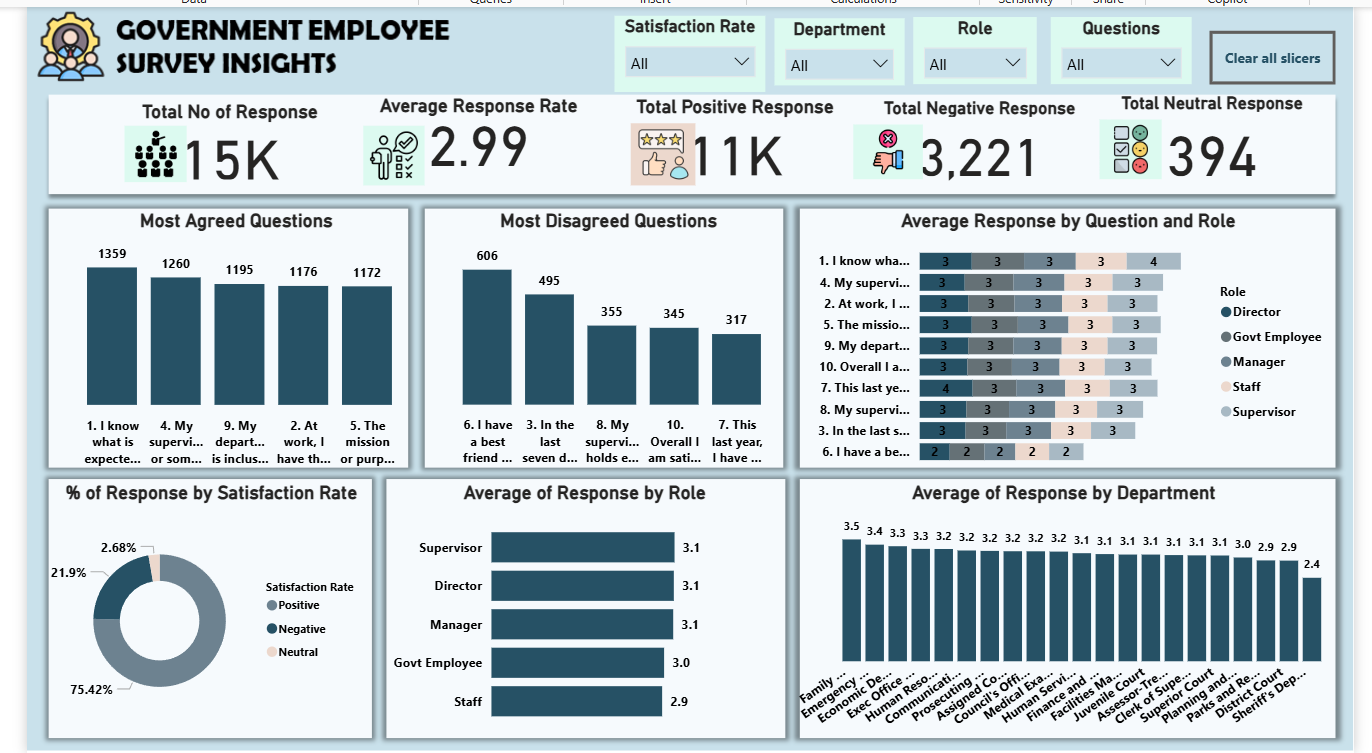

This screenshot's page, from the dashboard's own definition file:
{"tool":"powerbi","page":{"name":"DASHBAORD","canvas":[1280,720],"ordinal":2},"visuals":[{"type":"group","id":"g1","title":"Group 6","box":[566.8,9,557.6,73.6],"z":0,"group":"g9"},{"type":"group","id":"g2","title":"Group 1","box":[94,91.1,203.9,80.8],"z":0,"group":"g5"},{"type":"clusteredColumnChart","title":"Most Agreed Questions","fields":{"Category":["HR Survey Reponses.Question"],"Y":["CountNonNull(HR Survey Reponses.Satisfaction Rate)"]},"box":[20.5,195.4,363.1,255.8],"z":0,"group":"g4"},{"type":"group","id":"g3","title":"Group 2","box":[322.1,84.4,228,88.1],"z":1000,"group":"g5"},{"type":"group","id":"g4","title":"Group 7","box":[20.5,195.4,1243.4,510.1],"z":1000,"group":"g9"},{"type":"columnChart","title":"Most Disagreed Questions","fields":{"Category":["HR Survey Reponses.Question"],"Y":["CountNonNull(HR Survey Reponses.Satisfaction Rate)"]},"box":[383.3,195.8,355.6,255.6],"z":1000,"group":"g4"},{"type":"group","id":"g5","title":"Group 8","box":[94,82.5,1146.2,92.1],"z":2000,"group":"g9"},{"type":"group","id":"g6","title":"Group 3","box":[577.9,85.6,211.1,86.9],"z":2000,"group":"g5"},{"type":"barChart","title":"Average  Response by Question and Role","fields":{"Series":["HR Survey Reponses.Role"],"Category":["HR Survey Reponses.Question"],"Y":["HR Survey Reponses.Average of Response"]},"box":[747.2,195.8,516.7,255.6],"z":2000,"group":"g4"},{"type":"group","id":"g7","title":"Group 4","box":[797.5,87,227,85.5],"z":3000,"group":"g5"},{"type":"donutChart","title":"% of Response  by Satisfaction Rate","fields":{"Category":["HR Survey Reponses.Satisfaction Rate"],"Y":["CountNonNull(HR Survey Reponses.Response Text)"]},"box":[20.8,458.3,315.3,247.2],"z":3000,"group":"g4"},{"type":"group","id":"g8","title":"Group 5","box":[1035.1,82.5,205.1,92.1],"z":4000,"group":"g5"},{"type":"clusteredBarChart","fields":{"Y":["HR Survey Reponses.Average of Response"],"Category":["HR Survey Reponses.Role"]},"box":[347.2,458.3,381.9,247.2],"z":4000,"group":"g4"},{"type":"columnChart","fields":{"Category":["HR Survey Reponses.Department"],"Y":["HR Survey Reponses.Average of Response"]},"box":[738.9,458.3,525,247.2],"z":5000,"group":"g4"},{"type":"card","title":"Total Positive Response","fields":{"Values":["HR Survey Reponses.Positive Count"]},"box":[577.9,85.6,211.1,82],"z":6000,"group":"g6"},{"type":"card","title":"Average Response Rate","fields":{"Values":["HR Survey Reponses.Average of Response"]},"box":[322.1,84.4,228,88.1],"z":7000,"group":"g3"},{"type":"card","title":"Total Negative Response","fields":{"Values":["HR Survey Reponses.Negative Count"]},"box":[814,87,210.5,85.5],"z":8000,"group":"g7"},{"type":"card","title":"Total Neutral Response","fields":{"Values":["HR Survey Reponses.Neutral Count"]},"box":[1046.8,82.5,193.4,92.1],"z":9000,"group":"g8"},{"type":"card","title":"Total No of Response","fields":{"Values":["HR Survey Reponses.Total No of response"]},"box":[94,91.1,203.9,80.8],"z":10000,"group":"g2"},{"type":"slicer","title":"Satisfaction Rate","fields":{"Values":["HR Survey Reponses.Satisfaction Rate"]},"box":[566.8,9,146,73.6],"z":11000,"group":"g1"},{"type":"slicer","title":"Department","fields":{"Values":["HR Survey Reponses.Department"]},"box":[721.5,10.8,125.5,65.1],"z":12000,"group":"g1"},{"type":"slicer","title":"Role","fields":{"Values":["HR Survey Reponses.Role"]},"box":[855.4,9.6,119.4,65.1],"z":13000,"group":"g1"},{"type":"slicer","title":"Questions","fields":{"Values":["HR Survey Reponses.Question"]},"box":[988.1,9.6,136.3,65.1],"z":14000,"group":"g1"},{"type":"image","box":[94.1,115.5,60.1,54.7],"z":15000,"group":"g2"},{"type":"image","box":[324.5,114.6,59.1,57.9],"z":16000,"group":"g3"},{"type":"image","box":[582.7,112.1,62.7,60.3],"z":17000,"group":"g6"},{"type":"image","box":[797.5,113.4,67.6,53.1],"z":18000,"group":"g7"},{"type":"image","box":[1035.1,108.5,60.3,57.9],"z":19000,"group":"g8"},{"type":"actionButton","box":[1141.3,22.9,121.9,51.9],"z":20000},{"type":"group","id":"g9","title":"Group 9","box":[20.5,9,1243.4,696.5],"z":20009}]}

Visuals, with their boxes on the page's 1280x720 design canvas (x1, y1, x2, y2). These are canvas units, not pixel positions in the 1372x753 screenshot, which may show the page scaled, cropped or inside an application window:
"Group 6" group: 567:9:1124:83
"Group 1" group: 94:91:298:172
"Most Agreed Questions" clusteredColumnChart: 20:195:384:451
"Group 2" group: 322:84:550:172
"Group 7" group: 20:195:1264:706
"Most Disagreed Questions" columnChart: 383:196:739:451
"Group 8" group: 94:82:1240:175
"Group 3" group: 578:86:789:172
"Average  Response by Question and Role" barChart: 747:196:1264:451
"Group 4" group: 798:87:1024:172
"% of Response  by Satisfaction Rate" donutChart: 21:458:336:706
"Group 5" group: 1035:82:1240:175
clusteredBarChart - HR Survey Reponses.Average of Response x HR Survey Reponses.Role: 347:458:729:706
columnChart - HR Survey Reponses.Department x HR Survey Reponses.Average of Response: 739:458:1264:706
"Total Positive Response" card: 578:86:789:168
"Average Response Rate" card: 322:84:550:172
"Total Negative Response" card: 814:87:1024:172
"Total Neutral Response" card: 1047:82:1240:175
"Total No of Response" card: 94:91:298:172
"Satisfaction Rate" slicer: 567:9:713:83
"Department" slicer: 722:11:847:76
"Role" slicer: 855:10:975:75
"Questions" slicer: 988:10:1124:75
image: 94:116:154:170
image: 324:115:384:172
image: 583:112:645:172
image: 798:113:865:166
image: 1035:108:1095:166
actionButton: 1141:23:1263:75
"Group 9" group: 20:9:1264:706
